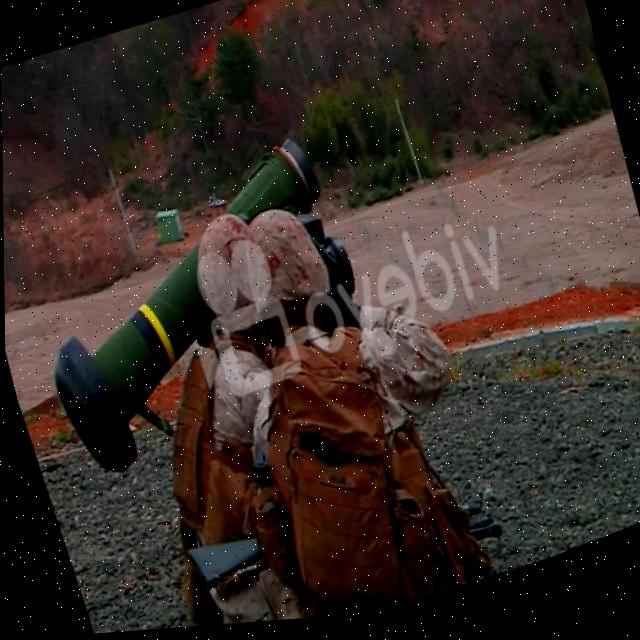rocket: (6, 136, 372, 480)
